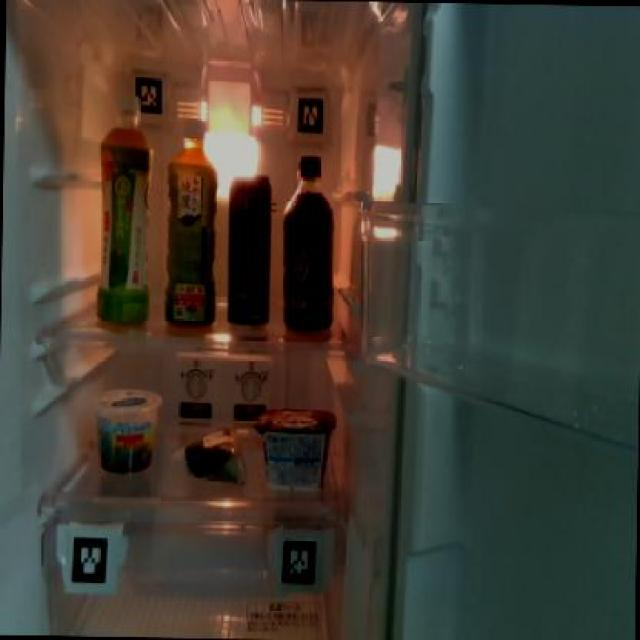coffee: (279, 150, 336, 333)
energy_drink: (223, 170, 272, 328)
pudding: (92, 386, 162, 474)
rice_ball: (178, 421, 250, 490)
tea_a: (159, 114, 219, 328)
tea_i: (91, 108, 154, 324)
yogurt: (252, 404, 337, 498)
